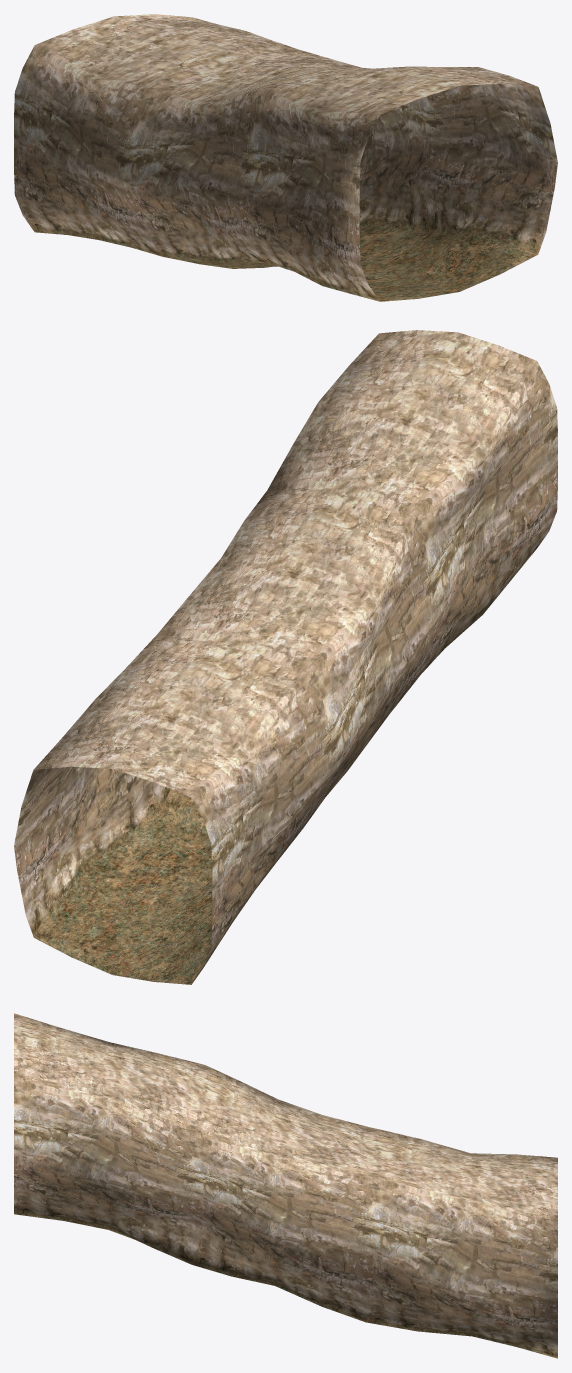
The model's file is thm_all_cave_s03_mirror_r7_mesh_r7.fbx.
3 views of the same model, one above another, from view 1: azimuth 30°, elevation 25°; view 2: azimuth 150°, elevation 25°; view 3: azimuth 270°, elevation 25° (orthographic). The views are drawn at different scales.
Visible parts, largest first — view 1: mesh_node; view 2: mesh_node; view 3: mesh_node.
Part boxes in pixels (x1,y1,x2,y2): mesh_node: (14, 14, 557, 301); mesh_node: (14, 330, 557, 984); mesh_node: (14, 1013, 557, 1358).
Bounding box in the file's own units: 8.34 × 14.93 × 24.
